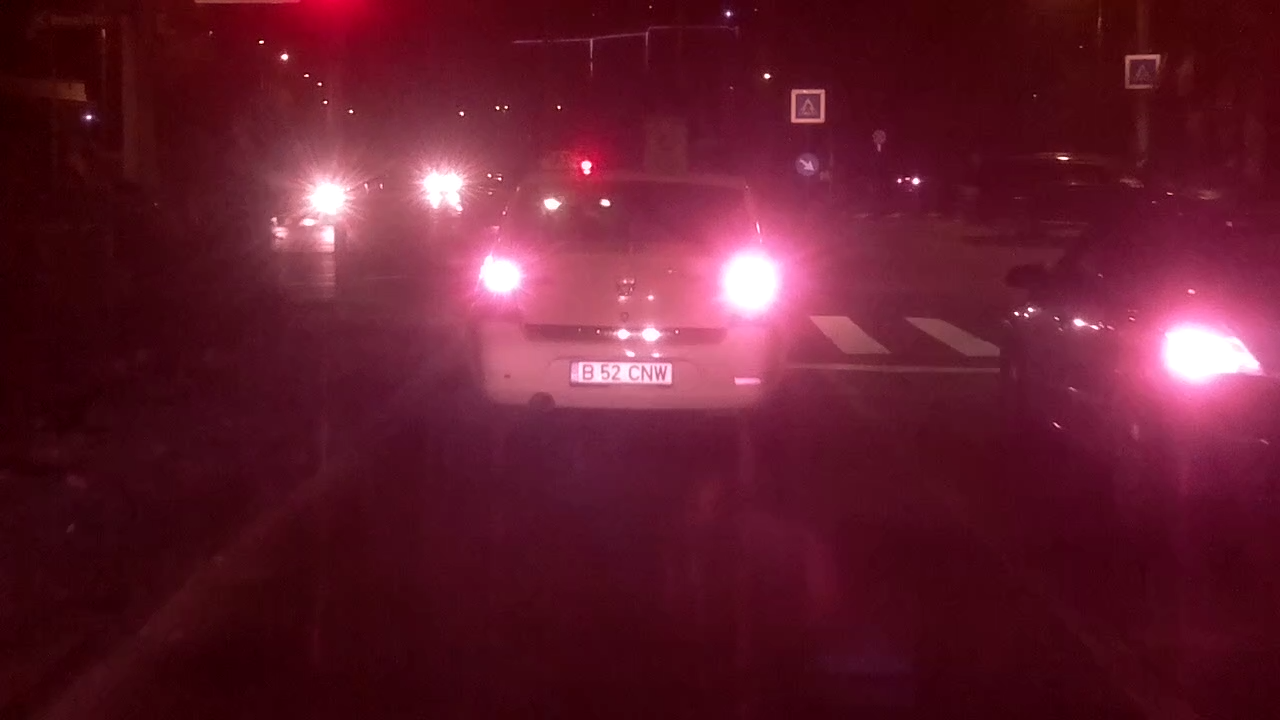license-plate: (565, 355, 677, 389)
